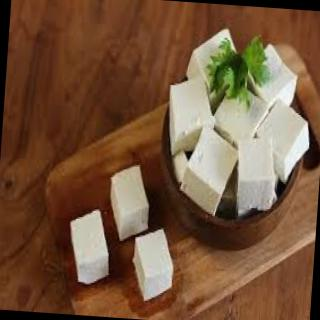Tahu: (155, 18, 320, 230), (58, 149, 188, 311)
